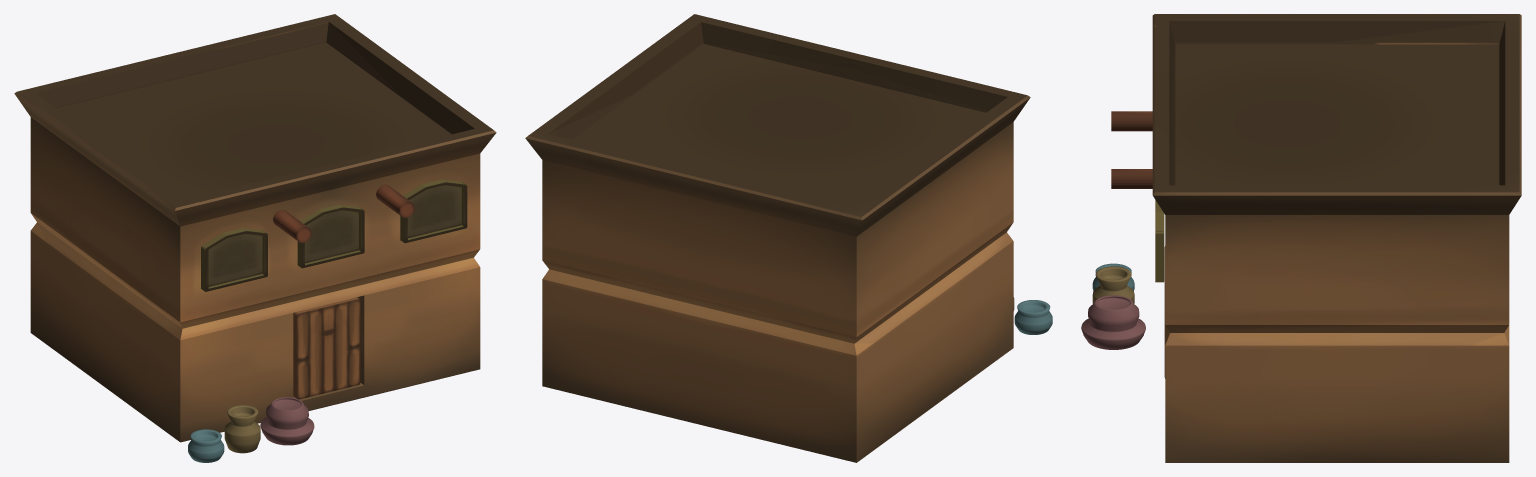
Rendered from CasaPraca2.fbx.
3 views of the same model, side by side, from view 1: azimuth 30°, elevation 25°; view 2: azimuth 150°, elevation 25°; view 3: azimuth 270°, elevation 25° (orthographic). The views are drawn at different scales.
Visible parts, largest first — view 1: Cube.010, Cube.011, Cube.013, Cube.014, Cube.015, Cylinder.017, Cylinder.016, Cylinder.015, Cylinder.008, Cylinder.009; view 2: Cube.010, Cylinder.015; view 3: Cube.010, Cylinder.017, Cylinder.016, Cylinder.008, Cylinder.009, Cube.014.
Part boxes in pixels (x1,y1,x2,y2): Cube.010: [14, 14, 496, 442]; Cube.011: [293, 297, 360, 399]; Cube.013: [201, 228, 267, 291]; Cube.014: [400, 179, 467, 243]; Cube.015: [297, 204, 364, 268]; Cylinder.017: [260, 397, 314, 445]; Cylinder.016: [224, 405, 260, 453]; Cylinder.015: [188, 429, 224, 462]; Cylinder.008: [273, 209, 311, 242]; Cylinder.009: [376, 184, 414, 217]; Cube.010: [525, 14, 1030, 462]; Cylinder.015: [1014, 300, 1052, 334]; Cube.010: [1152, 14, 1521, 462]; Cylinder.017: [1081, 295, 1145, 349]; Cylinder.016: [1092, 266, 1134, 303]; Cylinder.008: [1111, 111, 1152, 131]; Cylinder.009: [1111, 169, 1152, 188]; Cube.014: [1155, 200, 1164, 282].
Bounding box in the file's own units: 707 × 502 × 726.
7 materials, 7 textured.
